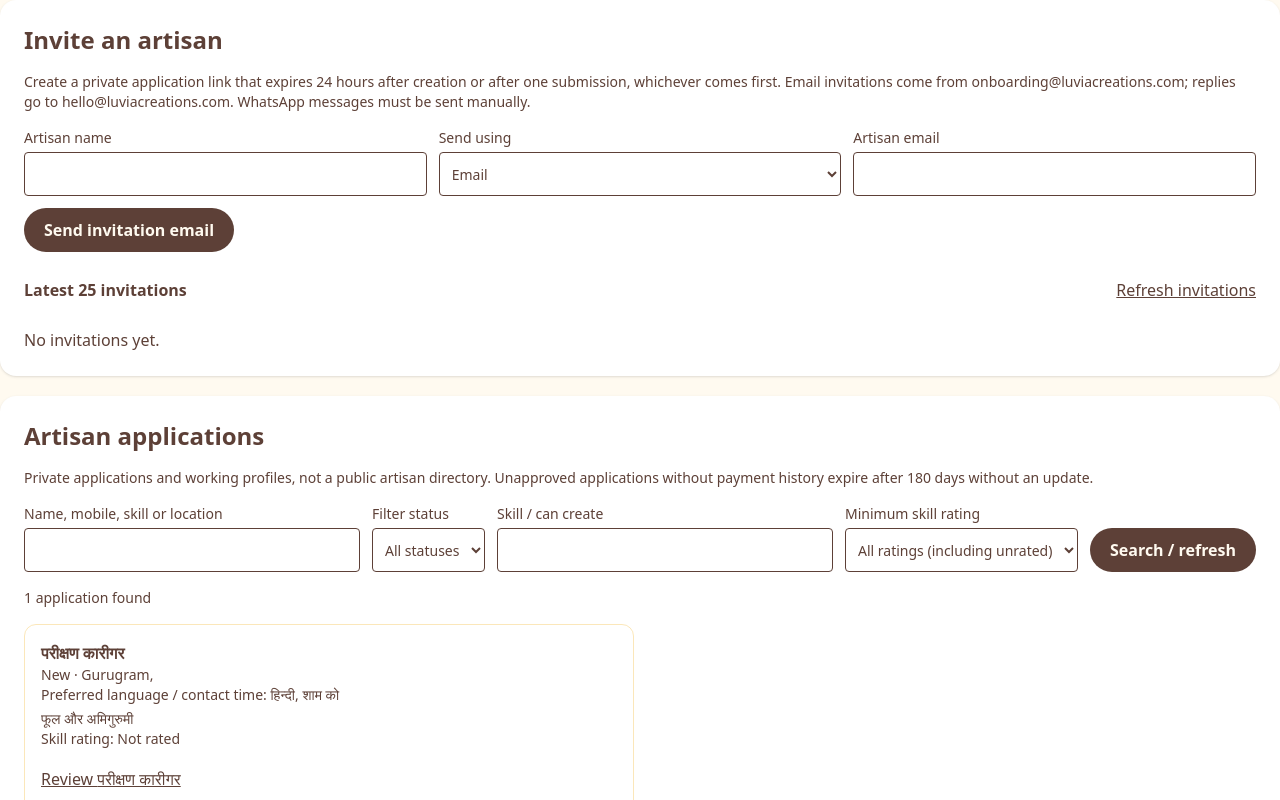
Test: displays original Hindi answers and preferred contact language in the directory and review
expect the text "Preferred language / contact time: हिन्दी, शाम को" is shown: met, box 41,685 -> 339,704
Click the button "Review परीक्षण कारीगर". click: x=111, y=779
box: 41,757 -> 181,799
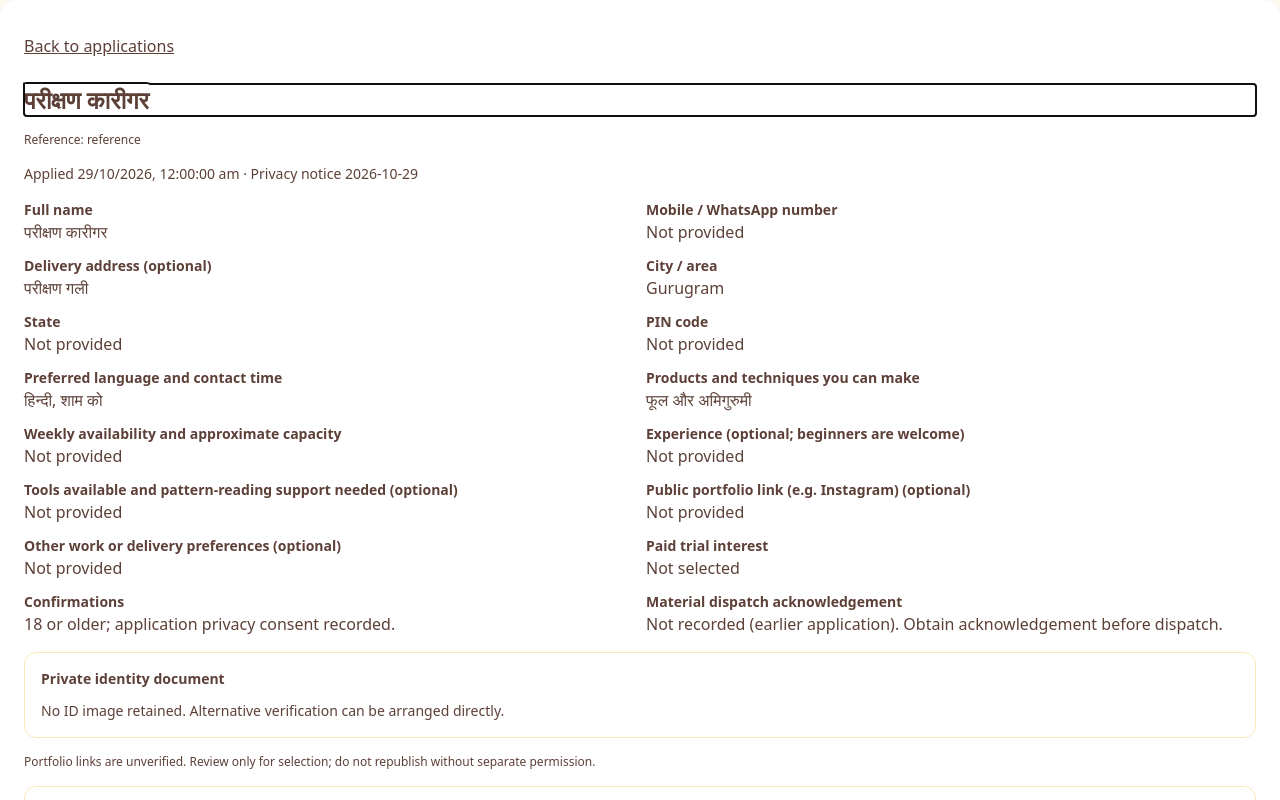
expect the text "हिन्दी, शाम को" is shown: met, box 24,389 -> 102,411
expect the text "परीक्षण गली" is shown: met, box 24,277 -> 88,299
